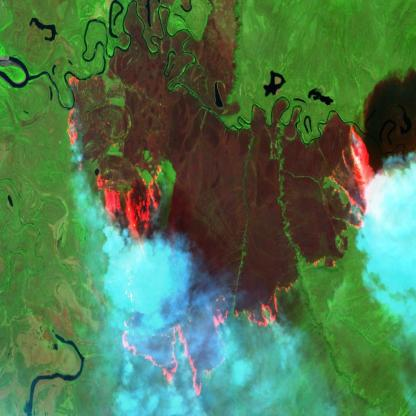fire: (62, 70, 388, 402)
